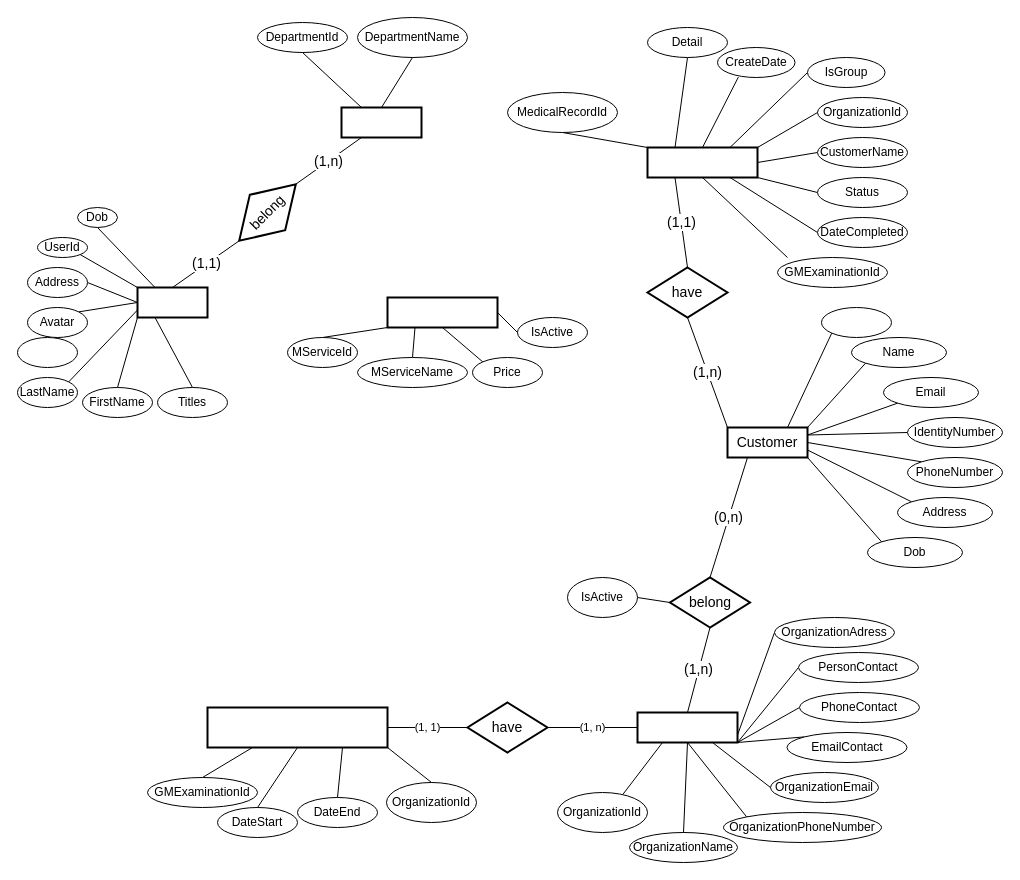
Image size: 1020x880. Some labels were removed from this diagram. Each missing label, with the centre of its shape:
"CustomerId" belongs at [856,322].
"Department" belongs at [381,122].
"GroupMedicalExamination" belongs at [297,727].
"MedicalRecord" belongs at [702,162].
"MedicalService" belongs at [442,312].
"Organization" belongs at [687,727].
"Signature" belongs at [47,352].
"User" belongs at [172,302].
